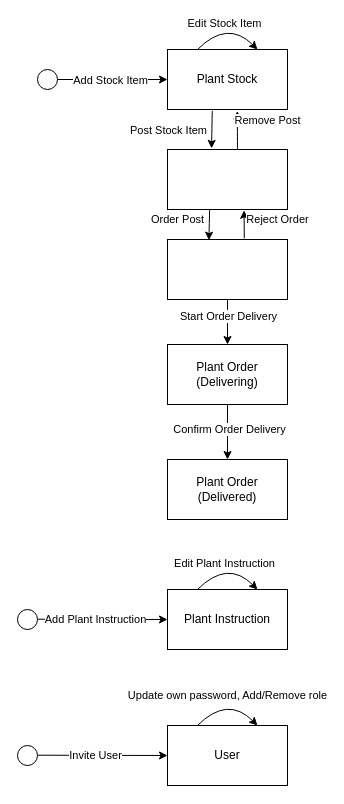
Some shapes in this 344 by 804 pixel diagram are drawn without their labels. The shapes that lost their labels are listed below. From the top down, each one's centre as x and y in pixels, then its label:
the point at 227,179: Plant Post
the point at 227,269: Plant Order (Created)
